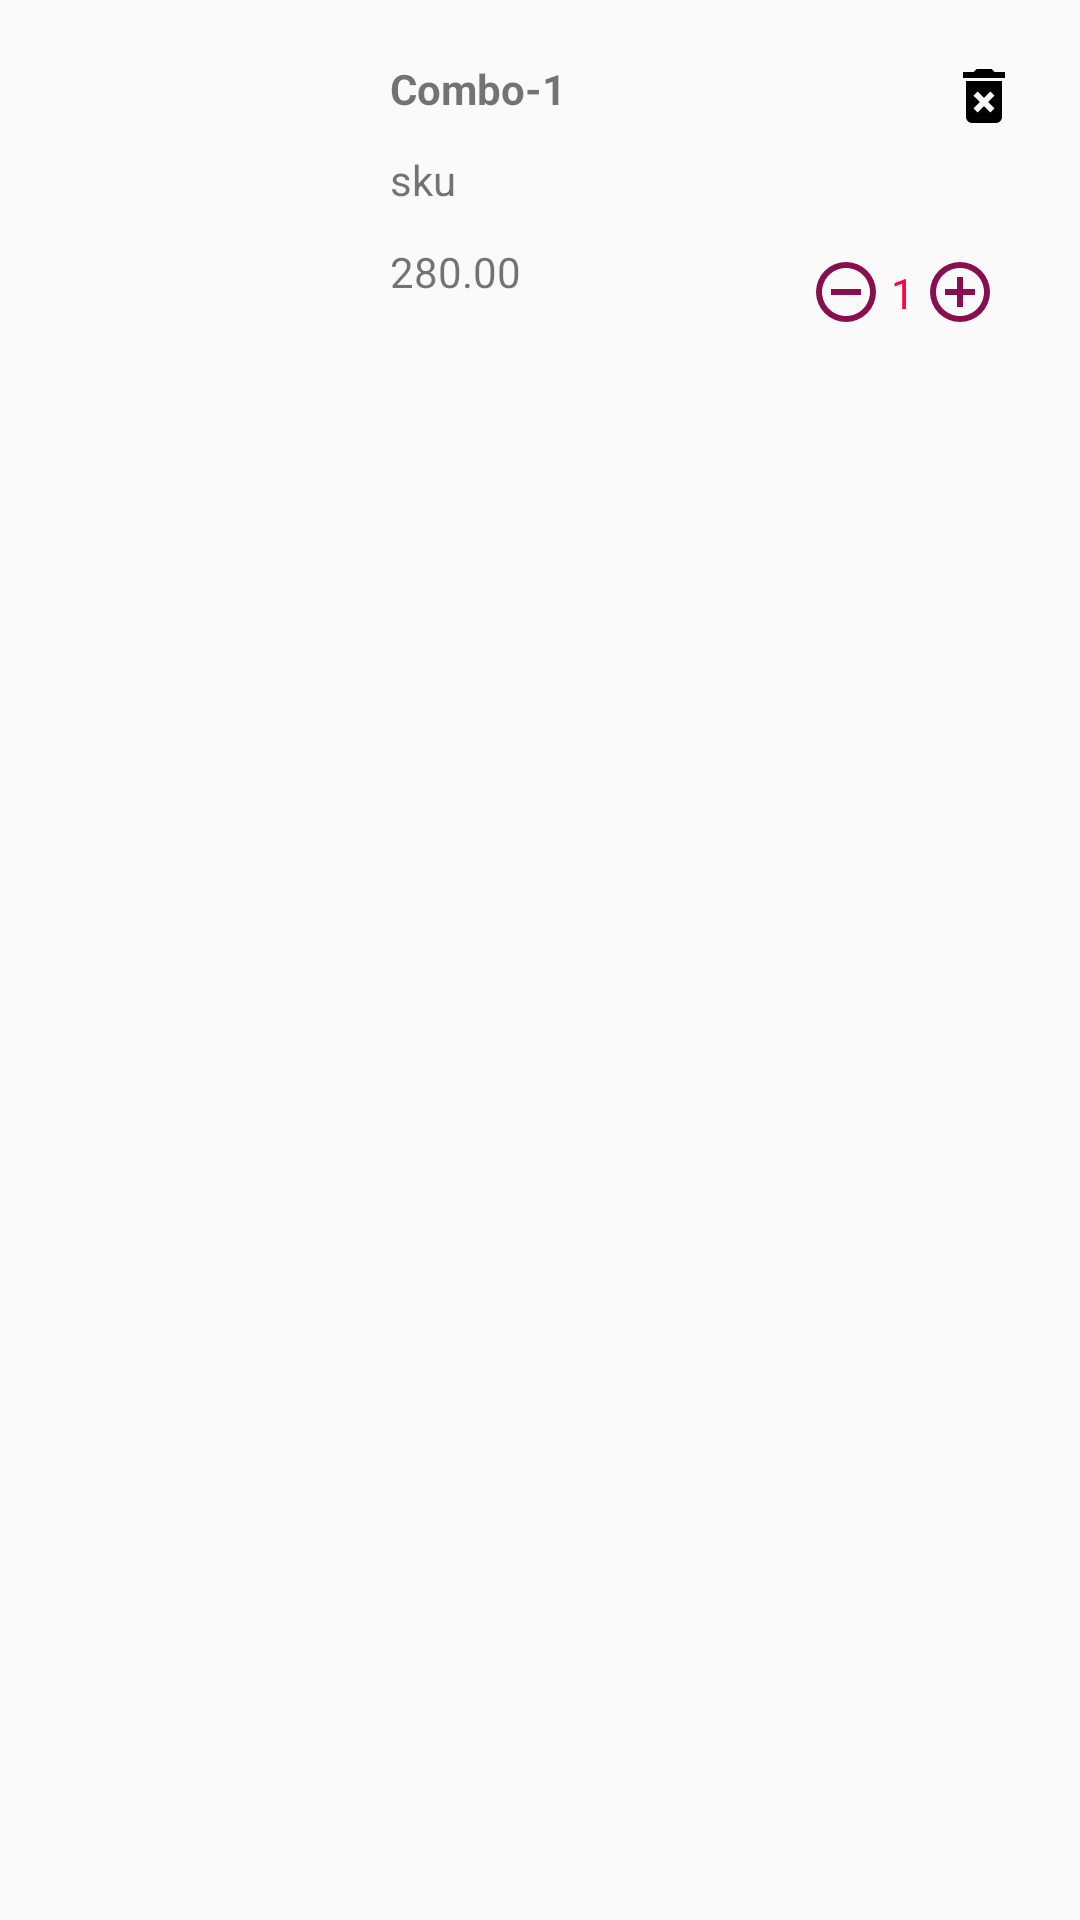

Screen size 1080*1920. Icon name, then its center in pixels as (x,y):
delete: (984,96)
minus: (846,292)
plus: (960,292)
